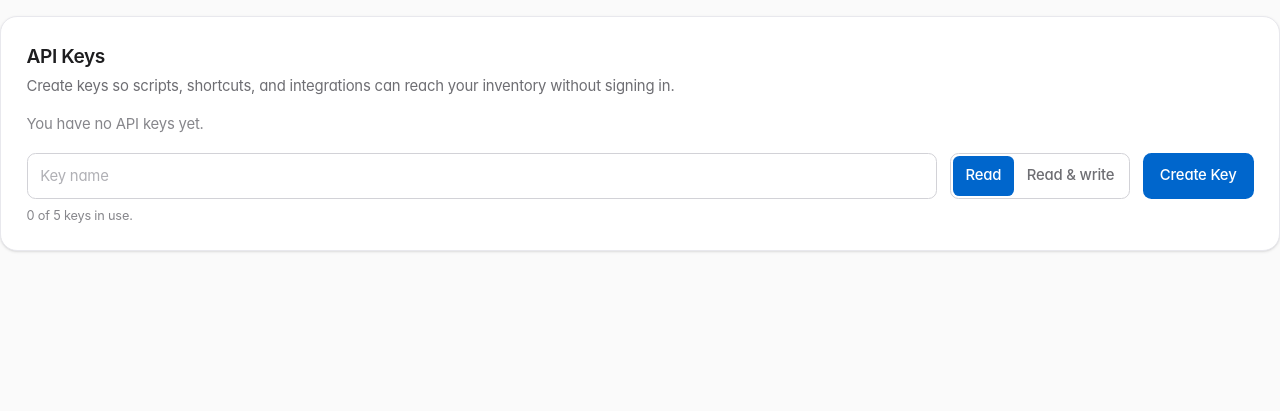
Test: ApiKeysSettings › has no accessibility violations while showing a secret
Expected: the text "You have no API keys yet." is shown, [26,115,204,133]
In the field named "new key name": (482, 176) [26,152,937,199], type "a"
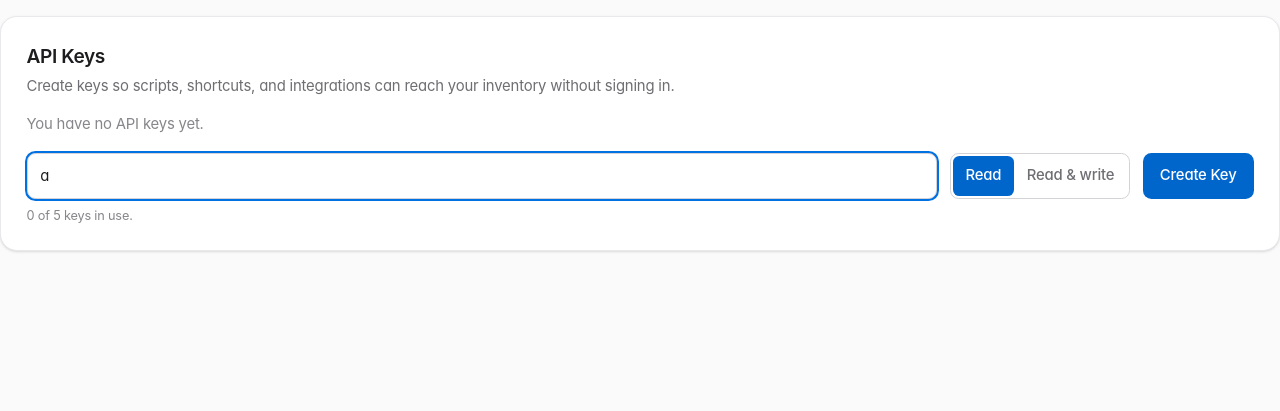
Click the button "Create Key": (1198, 176) [1143,152,1254,199]
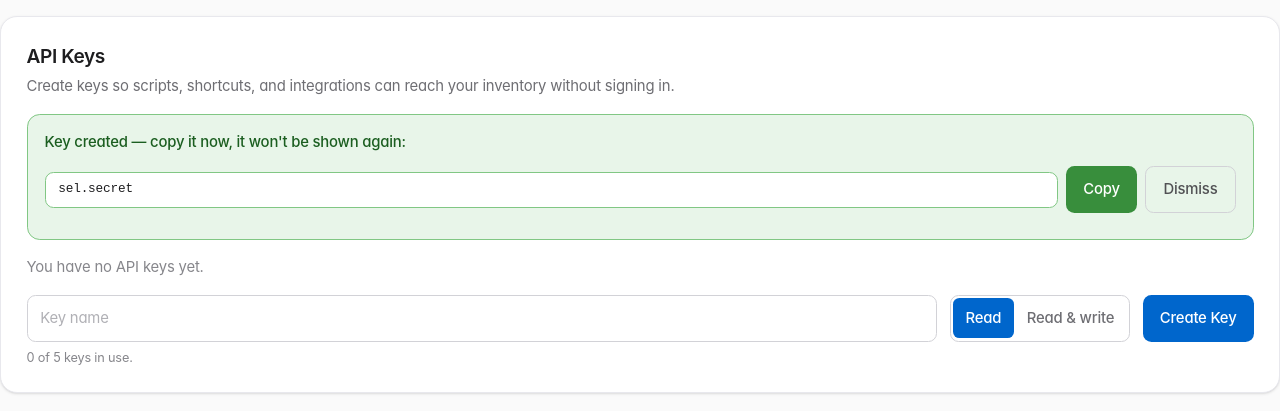
Now the element with test id "api-key-secret" is shown, box [26,114,1254,240]
